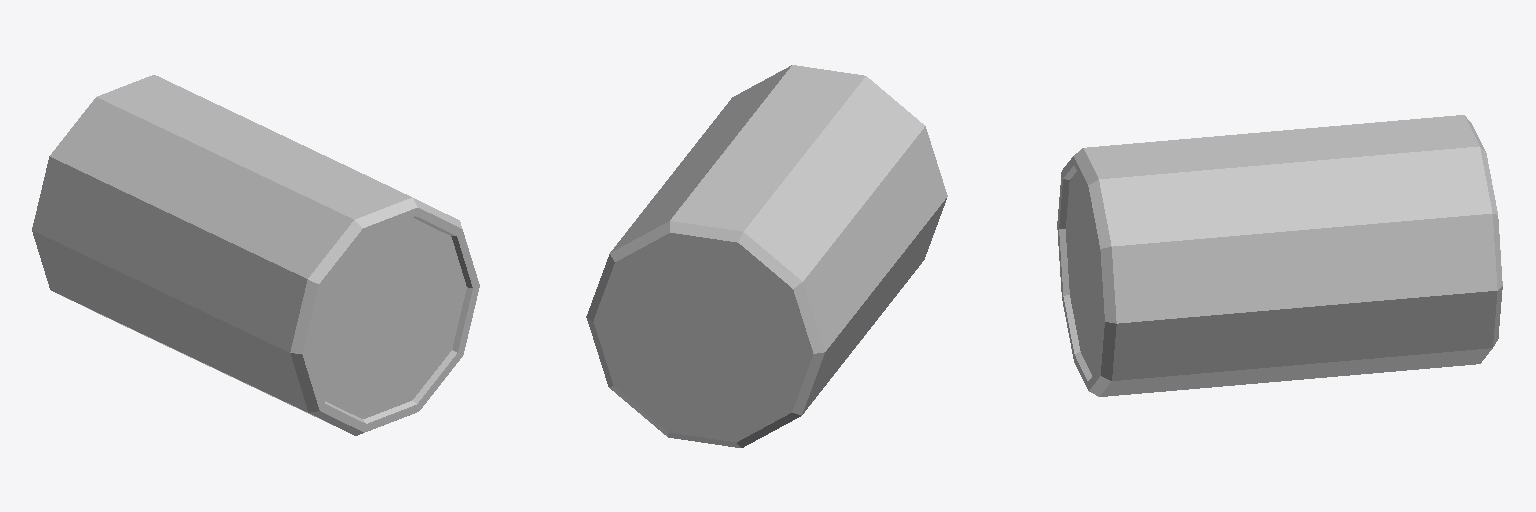
File: drinks_can002.obj
3 renders of one model, left to right at view 1: azimuth 30°, elevation 25°; view 2: azimuth 150°, elevation 25°; view 3: azimuth 270°, elevation 25°, orthographic.
Visible parts, largest first — view 1: drinks_can.002_Cylinder.005; view 2: drinks_can.002_Cylinder.005; view 3: drinks_can.002_Cylinder.005.
Boxes of the visible parts, x1=… form: drinks_can.002_Cylinder.005: x1=32, y1=75, x2=479, y2=435; drinks_can.002_Cylinder.005: x1=586, y1=65, x2=947, y2=447; drinks_can.002_Cylinder.005: x1=1057, y1=115, x2=1502, y2=396.
Size of the model in its own units: 0.29 by 0.2142 by 0.3978.